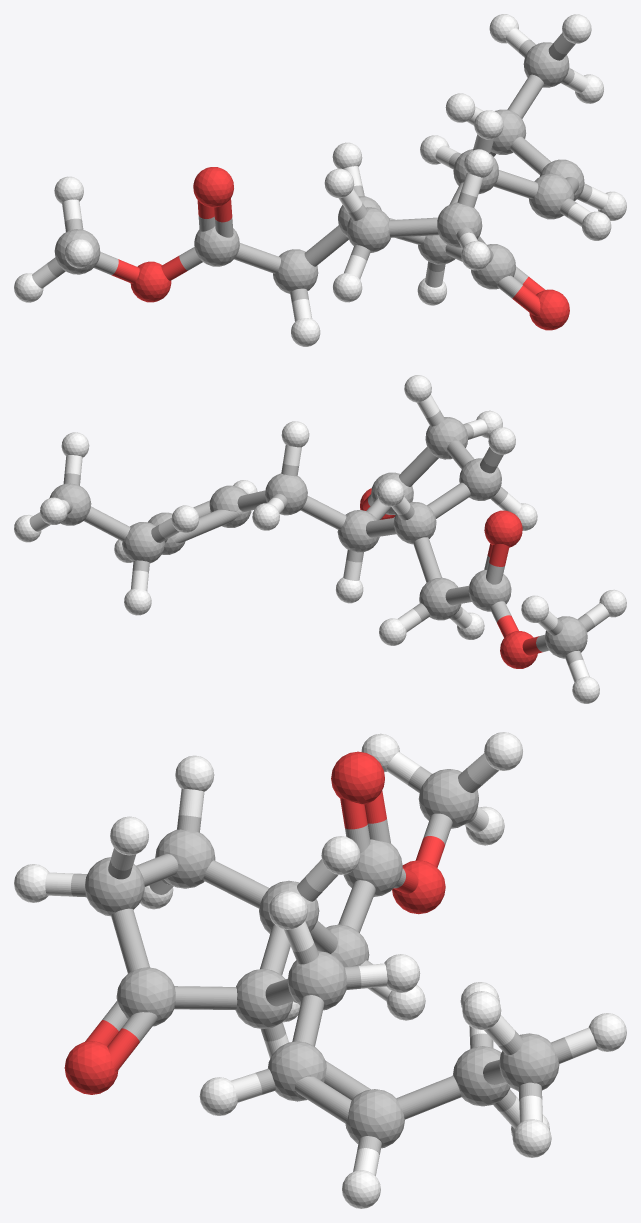
Rendered from MeJA.glb.
3 views of the same model, one above another, from view 1: azimuth 30°, elevation 25°; view 2: azimuth 150°, elevation 25°; view 3: azimuth 270°, elevation 25° (orthographic). The views are drawn at different scales.
Visible parts, largest first — view 1: imagetostl_mesh16, imagetostl_mesh5, imagetostl_mesh11, imagetostl_mesh8, imagetostl_mesh12, imagetostl_mesh17, imagetostl_mesh15, imagetostl_mesh13, imagetostl_mesh1, imagetostl_mesh0, imagetostl_mesh14, imagetostl_mesh7 (+28 smaller); view 2: imagetostl_mesh7, imagetostl_mesh16, imagetostl_mesh2, imagetostl_mesh14, imagetostl_mesh9, imagetostl_mesh11, imagetostl_mesh17, imagetostl_mesh4, imagetostl_mesh12, imagetostl_mesh15, imagetostl_mesh8, imagetostl_mesh13 (+26 smaller); view 3: imagetostl_mesh6, imagetostl_mesh1, imagetostl_mesh8, imagetostl_mesh4, imagetostl_mesh14, imagetostl_mesh17, imagetostl_mesh16, imagetostl_mesh5, imagetostl_mesh2, imagetostl_mesh15, imagetostl_mesh0, imagetostl_mesh7 (+32 smaller).
Part boxes in pixels (x1=…): imagetostl_mesh16: x1=347, y1=207, x2=390, y2=252; imagetostl_mesh5: x1=529, y1=174, x2=574, y2=219; imagetostl_mesh11: x1=273, y1=249, x2=318, y2=293; imagetostl_mesh8: x1=523, y1=42, x2=569, y2=87; imagetostl_mesh12: x1=194, y1=226, x2=239, y2=266; imagetostl_mesh17: x1=437, y1=202, x2=482, y2=247; imagetostl_mesh15: x1=193, y1=167, x2=233, y2=207; imagetostl_mesh13: x1=130, y1=261, x2=171, y2=302; imagetostl_mesh1: x1=471, y1=244, x2=515, y2=289; imagetostl_mesh0: x1=529, y1=289, x2=569, y2=330; imagetostl_mesh14: x1=54, y1=229, x2=100, y2=274; imagetostl_mesh7: x1=491, y1=109, x2=526, y2=154; imagetostl_mesh7: x1=122, y1=522, x2=164, y2=563; imagetostl_mesh16: x1=459, y1=458, x2=501, y2=500; imagetostl_mesh2: x1=337, y1=510, x2=379, y2=552; imagetostl_mesh14: x1=545, y1=616, x2=587, y2=658; imagetostl_mesh9: x1=393, y1=502, x2=436, y2=544; imagetostl_mesh11: x1=419, y1=577, x2=461, y2=620; imagetostl_mesh17: x1=425, y1=417, x2=468, y2=459; imagetostl_mesh4: x1=265, y1=473, x2=307, y2=515; imagetostl_mesh12: x1=468, y1=570, x2=511, y2=611; imagetostl_mesh15: x1=484, y1=510, x2=522, y2=547; imagetostl_mesh8: x1=49, y1=483, x2=91, y2=525; imagetostl_mesh13: x1=500, y1=631, x2=537, y2=668; imagetostl_mesh6: x1=345, y1=1089, x2=404, y2=1148; imagetostl_mesh1: x1=116, y1=967, x2=175, y2=1026; imagetostl_mesh8: x1=499, y1=1033, x2=559, y2=1091; imagetostl_mesh4: x1=287, y1=951, x2=346, y2=1010; imagetostl_mesh14: x1=418, y1=769, x2=478, y2=828; imagetostl_mesh17: x1=85, y1=857, x2=144, y2=916; imagetostl_mesh16: x1=155, y1=829, x2=215, y2=888; imagetostl_mesh5: x1=268, y1=1041, x2=326, y2=1101; imagetostl_mesh2: x1=235, y1=969, x2=292, y2=1028; imagetostl_mesh15: x1=331, y1=751, x2=384, y2=804; imagetostl_mesh0: x1=64, y1=1041, x2=118, y2=1094; imagetostl_mesh7: x1=452, y1=1046, x2=510, y2=1106.
Size of the model in its own units: 119 by 39.38 by 79.31.
